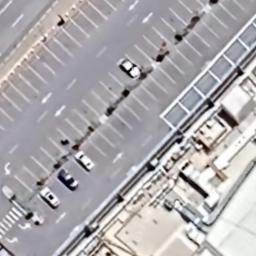SUV: (60, 166, 78, 192)
sedan: (40, 182, 62, 212), (74, 144, 94, 174), (118, 56, 141, 80)
